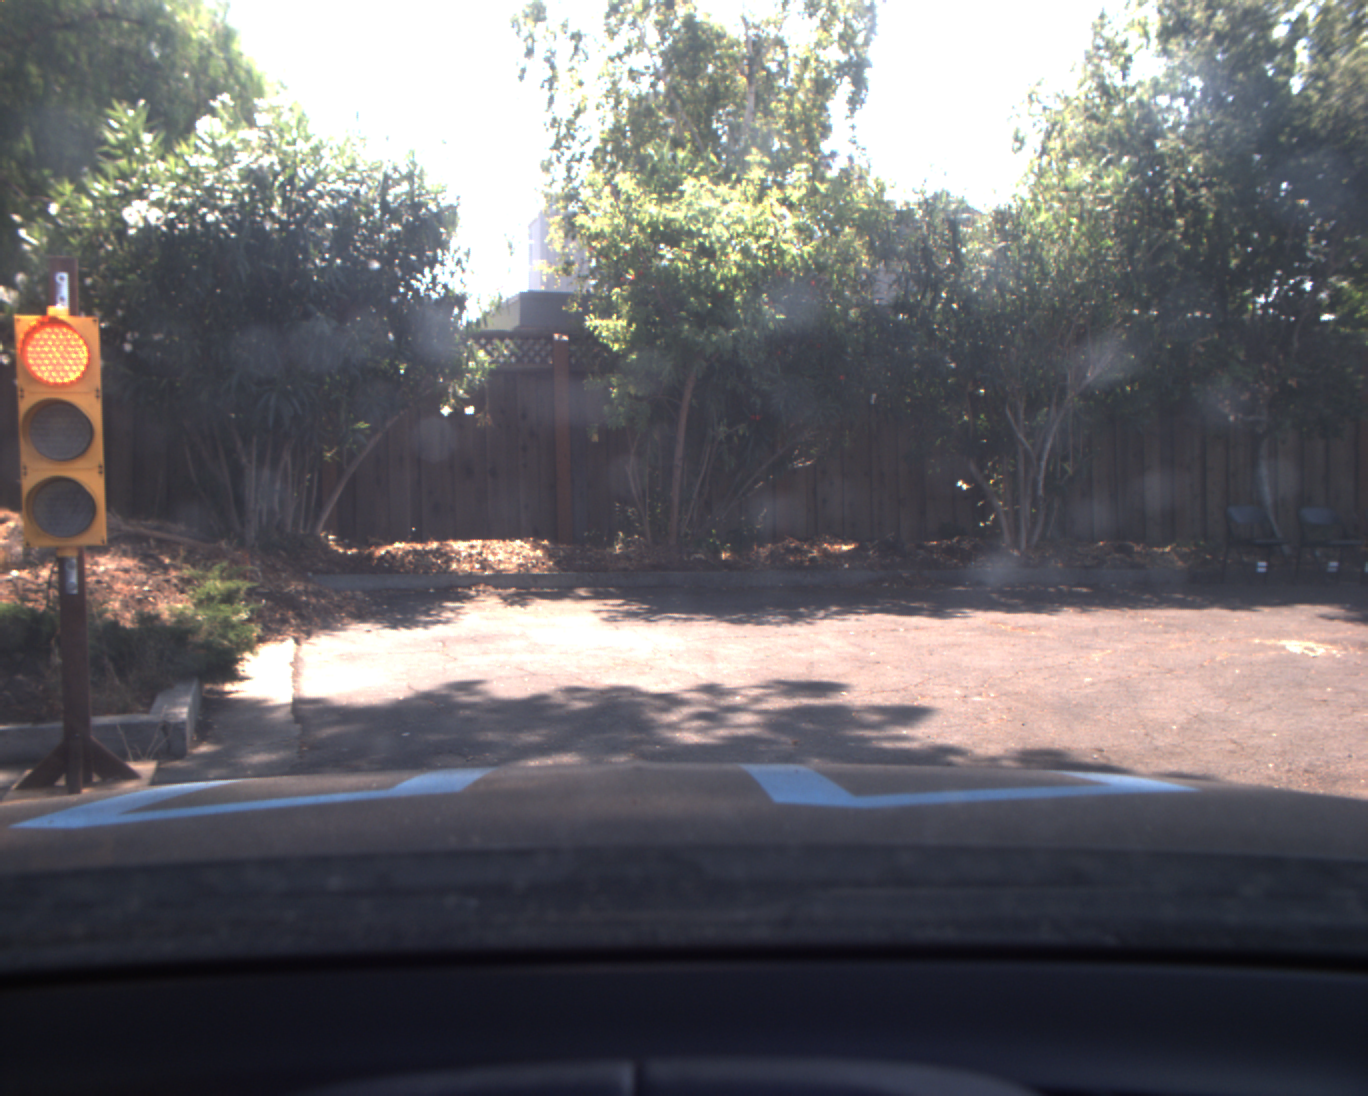red: (11, 302, 109, 555)
